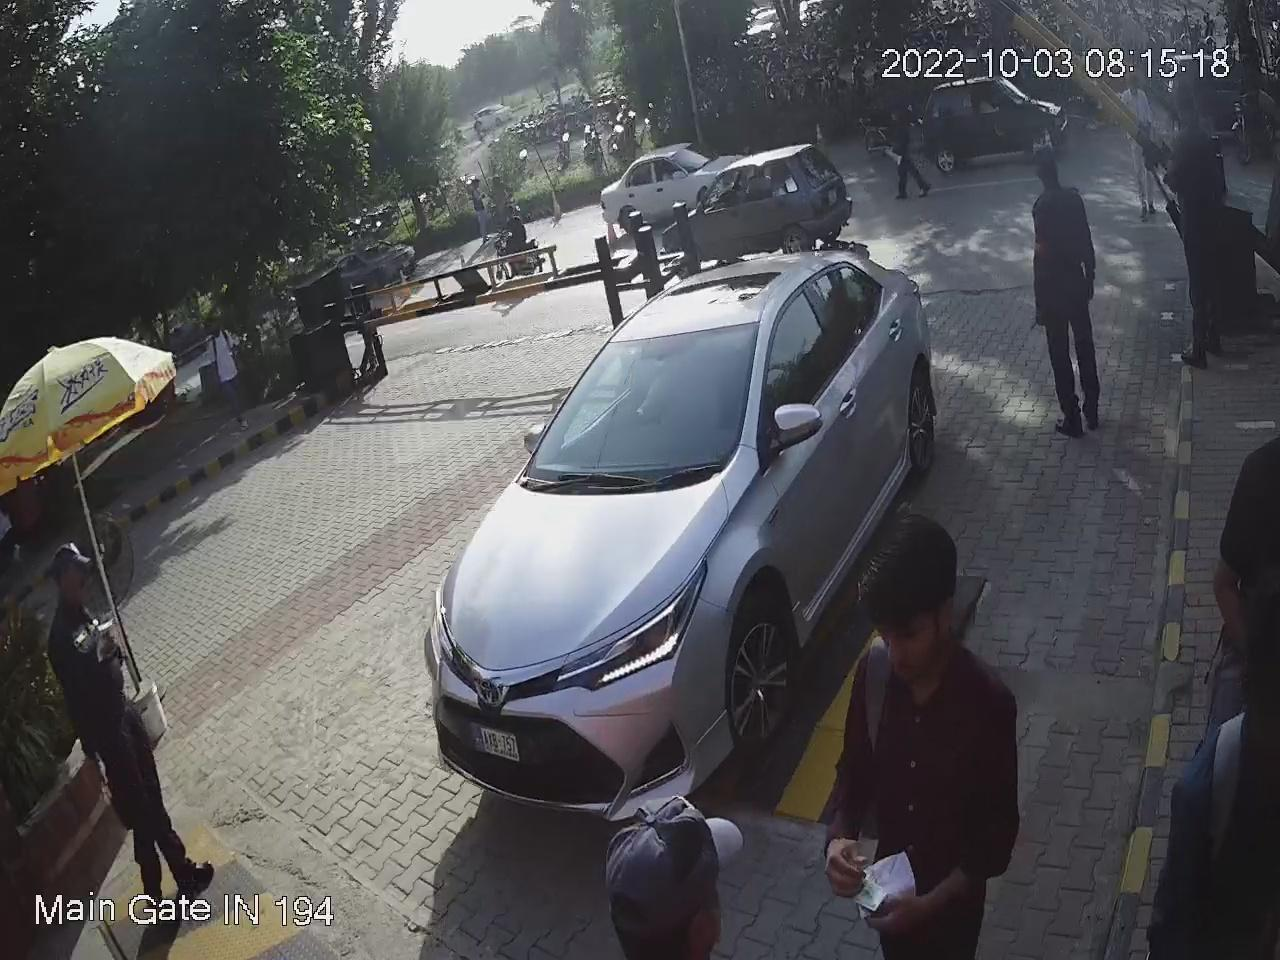windshield: (518, 308, 760, 478)
